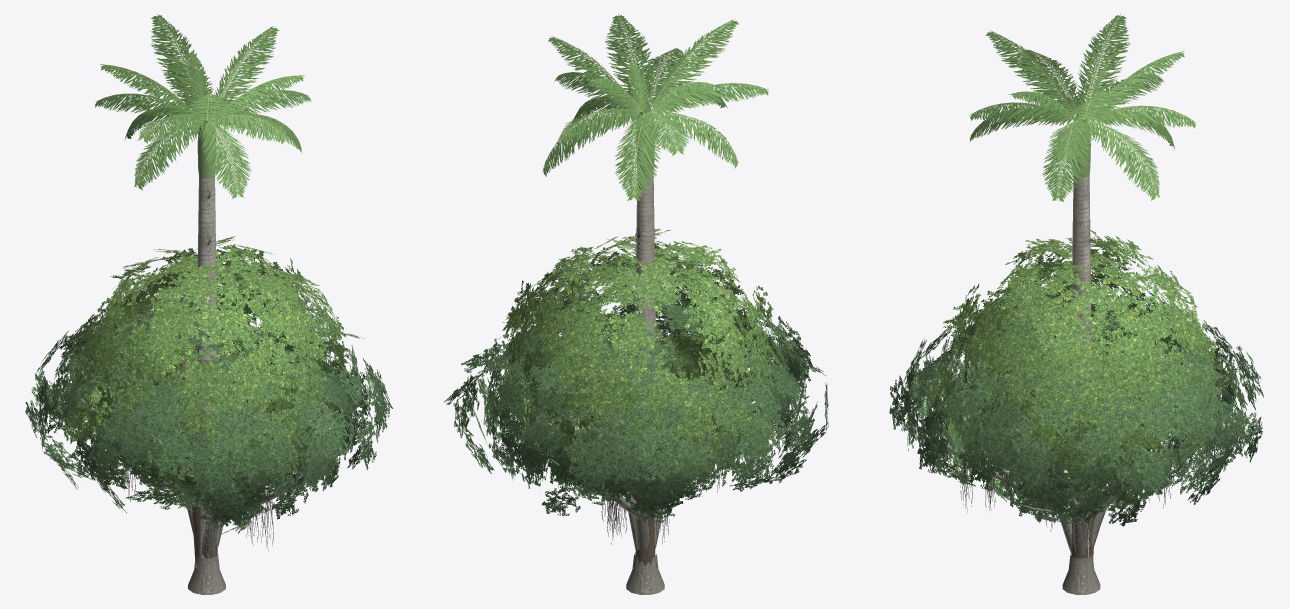
File: street_trees.glb
3 views of the same model, side by side, from view 1: azimuth 30°, elevation 25°; view 2: azimuth 150°, elevation 25°; view 3: azimuth 270°, elevation 25° (orthographic).
Visible parts, largest first — view 1: banyan_a_leaf, camphor_a_leaf, camphor_b_leaf, palm_a_leaf, palm_a_bark, banyan_a_bark; view 2: banyan_a_leaf, camphor_b_leaf, camphor_a_leaf, palm_a_leaf, palm_a_bark, banyan_a_bark, camphor_a_bark; view 3: banyan_a_leaf, camphor_a_leaf, camphor_b_leaf, palm_a_leaf, banyan_a_bark, palm_a_bark.
Boxes of the visible parts, box(x1,y1,x2,y2) form: banyan_a_leaf: box(25, 282, 392, 551); camphor_a_leaf: box(61, 244, 345, 503); camphor_b_leaf: box(63, 236, 354, 482); palm_a_leaf: box(95, 14, 310, 198); palm_a_bark: box(196, 177, 217, 558); banyan_a_bark: box(81, 367, 366, 594); banyan_a_leaf: box(444, 287, 828, 544); camphor_b_leaf: box(505, 236, 786, 489); camphor_a_leaf: box(498, 228, 789, 486); palm_a_leaf: box(542, 14, 768, 200); palm_a_bark: box(635, 170, 655, 555); banyan_a_bark: box(480, 370, 771, 594); camphor_a_bark: box(574, 362, 743, 566); banyan_a_leaf: box(889, 285, 1263, 562); camphor_a_leaf: box(934, 237, 1227, 487); camphor_b_leaf: box(928, 230, 1235, 498); palm_a_leaf: box(969, 14, 1196, 201); banyan_a_bark: box(921, 368, 1222, 594); palm_a_bark: box(1071, 176, 1091, 557).
Size of the model in its own units: 12.36 by 18.69 by 12.6.
Materials: 5 (5 with a texture image).
